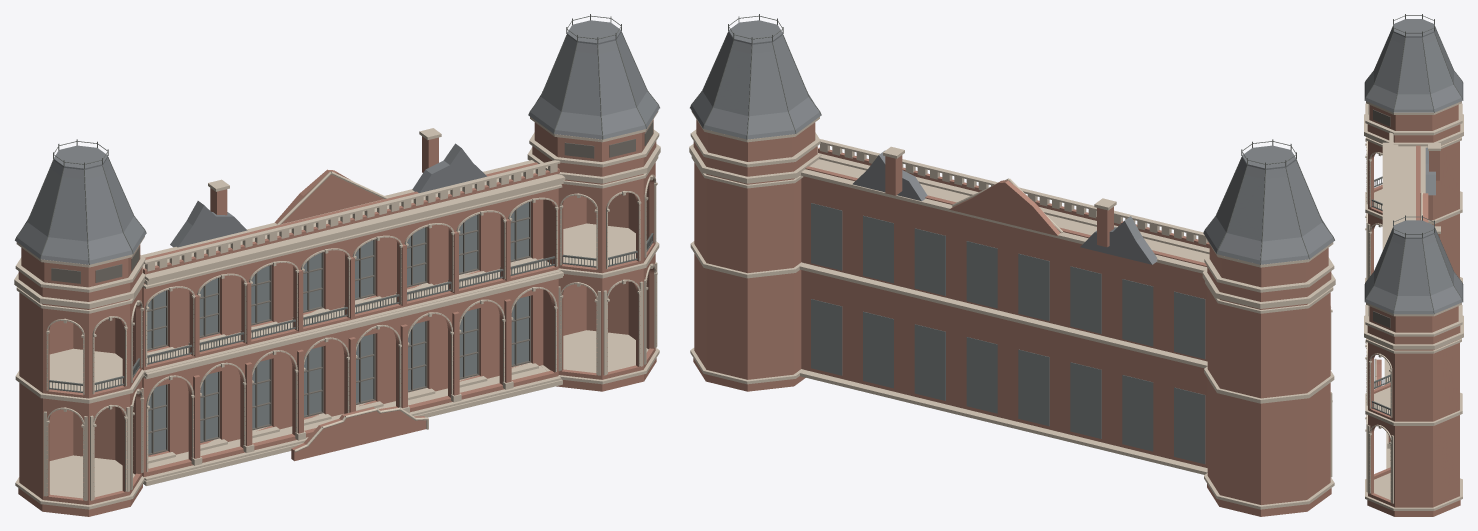
The model's file is jingan-chen-bingqian-historic-residence-raw.glb.
3 renders of one model, left to right at view 1: azimuth 30°, elevation 25°; view 2: azimuth 150°, elevation 25°; view 3: azimuth 270°, elevation 25°, orthographic. The views are drawn at different scales.
Visible parts, largest first — view 1: 陈炳谦宅（原托益住宅）双塔与券廊历史正立面; view 2: 陈炳谦宅（原托益住宅）双塔与券廊历史正立面; view 3: 陈炳谦宅（原托益住宅）双塔与券廊历史正立面.
Part boxes in pixels (x1,y1,x2,y2): 陈炳谦宅（原托益住宅）双塔与券廊历史正立面: [14, 14, 660, 516]; 陈炳谦宅（原托益住宅）双塔与券廊历史正立面: [689, 14, 1335, 516]; 陈炳谦宅（原托益住宅）双塔与券廊历史正立面: [1364, 14, 1463, 516].
Bounding box in the file's own units: 38.55 × 20.15 × 6.67.
